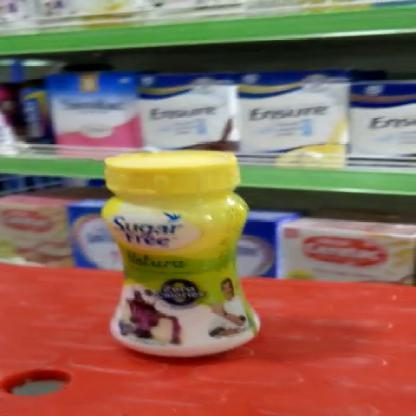SUGAR FREE NATURA_ POWDER_CONC_100G: (100, 146, 266, 362)
